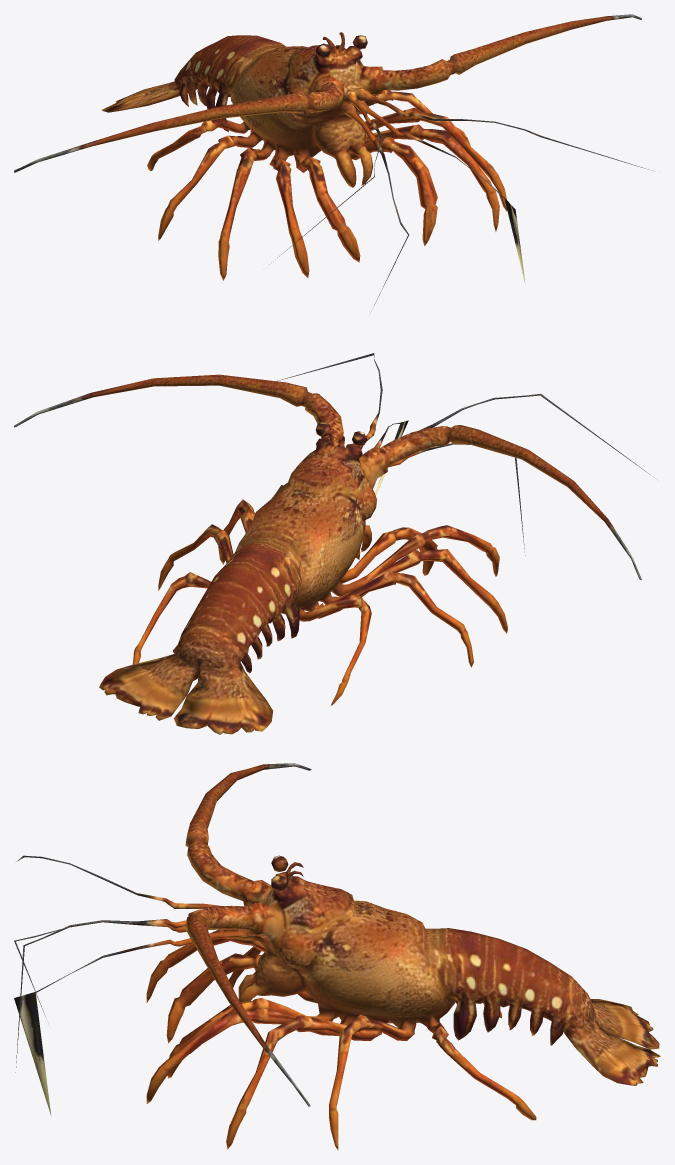
The model's file is langoest.glb.
The picture shows the model from 3 angles, top to bottom: view 1: azimuth 30°, elevation 25°; view 2: azimuth 150°, elevation 25°; view 3: azimuth 270°, elevation 25°; orthographic projection. The views are drawn at different scales.
Parts seen in each view (by area): view 1: tripo_node_4e6c0ea6-a39c-4c4d-a41c-b4b1ac723ddd; view 2: tripo_node_4e6c0ea6-a39c-4c4d-a41c-b4b1ac723ddd; view 3: tripo_node_4e6c0ea6-a39c-4c4d-a41c-b4b1ac723ddd.
Boxes of the visible parts, x1=… form: tripo_node_4e6c0ea6-a39c-4c4d-a41c-b4b1ac723ddd: x1=14, y1=14, x2=652, y2=313; tripo_node_4e6c0ea6-a39c-4c4d-a41c-b4b1ac723ddd: x1=14, y1=353, x2=649, y2=734; tripo_node_4e6c0ea6-a39c-4c4d-a41c-b4b1ac723ddd: x1=14, y1=763, x2=660, y2=1150.
Size of the model in its own units: 1.04 by 0.3 by 0.8469.
1 material, 1 textured.
